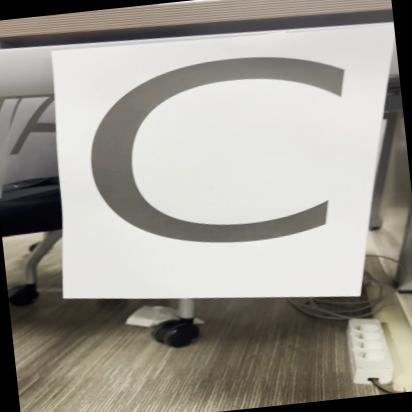seat: (74, 23, 388, 322)
